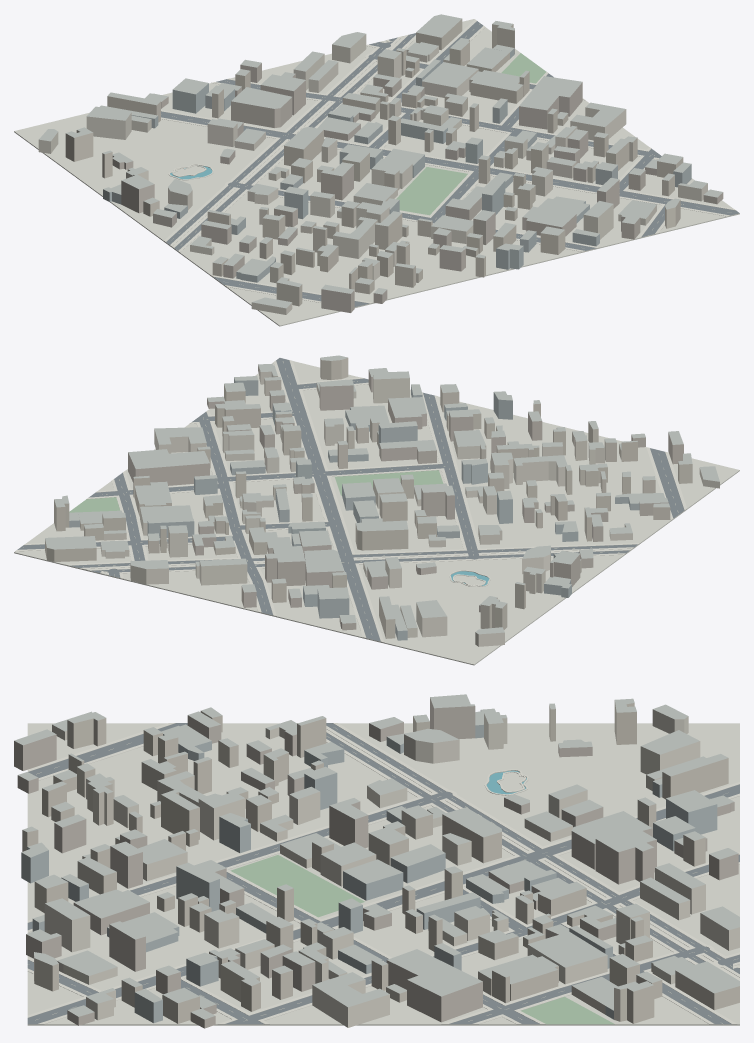
3 renders of one model, top to bottom at view 1: azimuth 30°, elevation 25°; view 2: azimuth 150°, elevation 25°; view 3: azimuth 270°, elevation 25°, orthographic. The views are drawn at different scales.
Visible parts, largest first — view 1: city; view 2: city; view 3: city.
Boxes of the visible parts, left/top/right/bottom form: city: left=14, top=14, right=739, bottom=326; city: left=14, top=355, right=739, bottom=665; city: left=14, top=694, right=739, bottom=1028.
Size of the model in its own units: 512 by 26 by 509.
